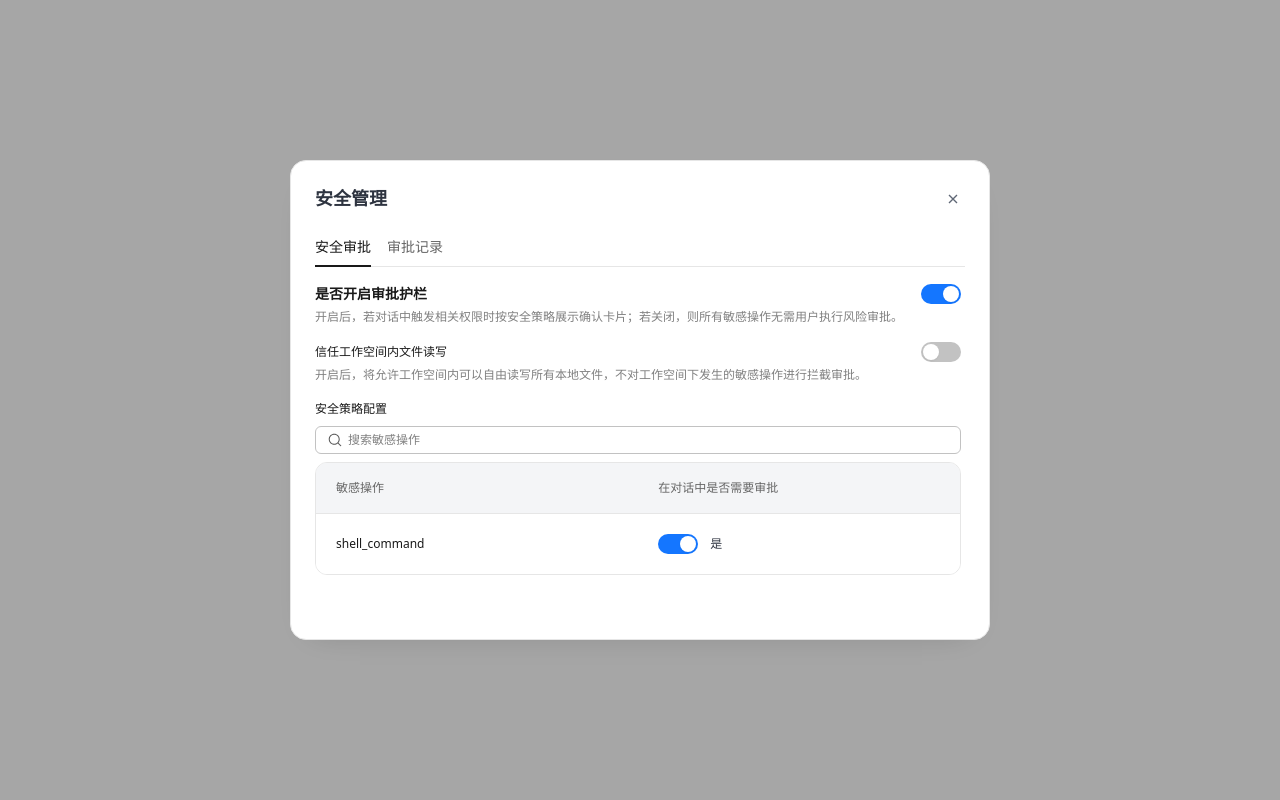
SecurityManagementModal › approval records tab › keeps records usable when loading auto cleanup settings fails
Click the tab "审批记录": [415, 248] box x1=387 y1=228 x2=443 y2=267
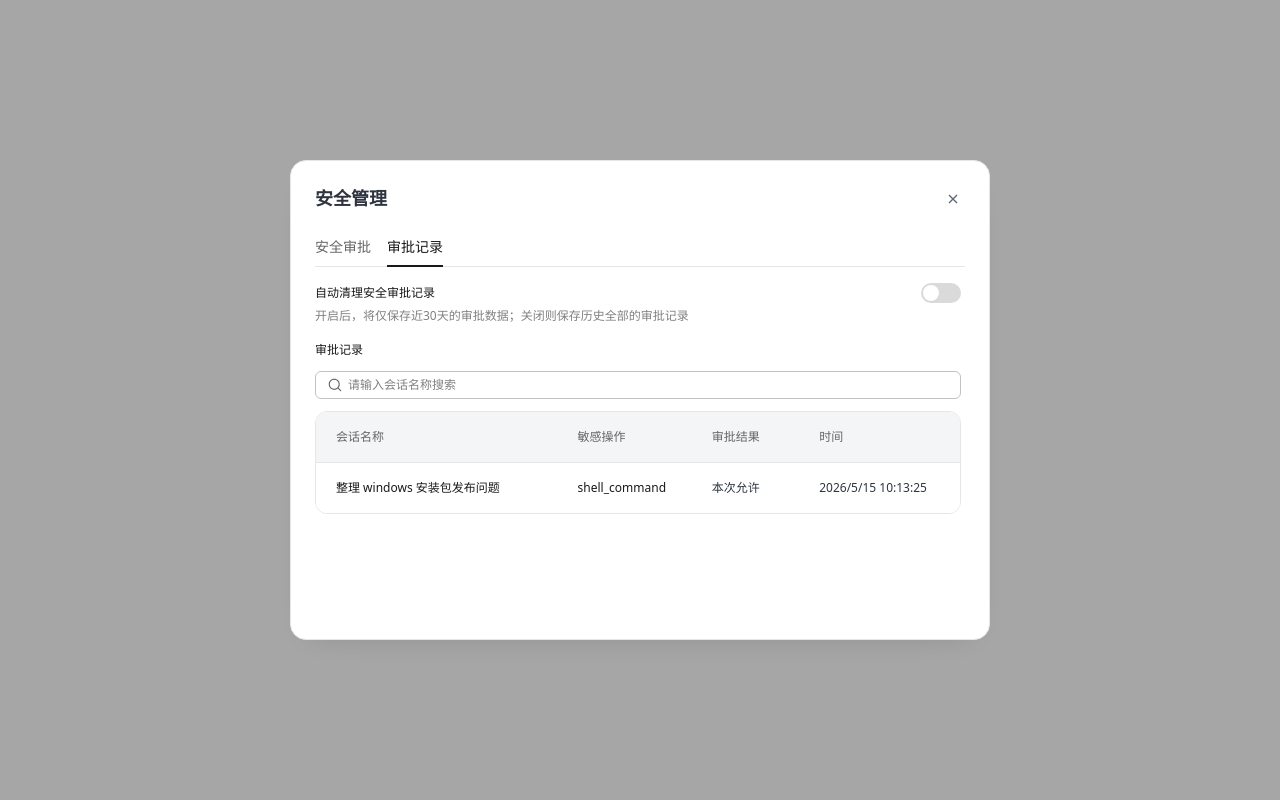
expect the switch with test id "approval-records-auto-cleanup-toggle" is disabled: met, box x1=921 y1=283 x2=961 y2=303
expect the element with test id "approval-records-table" is shown: met, box x1=315 y1=411 x2=961 y2=514
